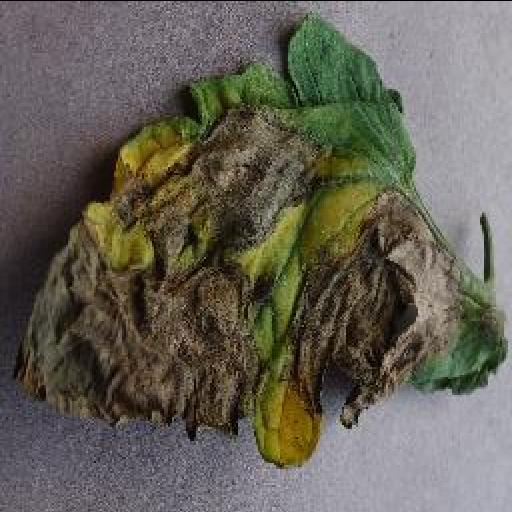disease_tomato: (14, 18, 512, 470)
